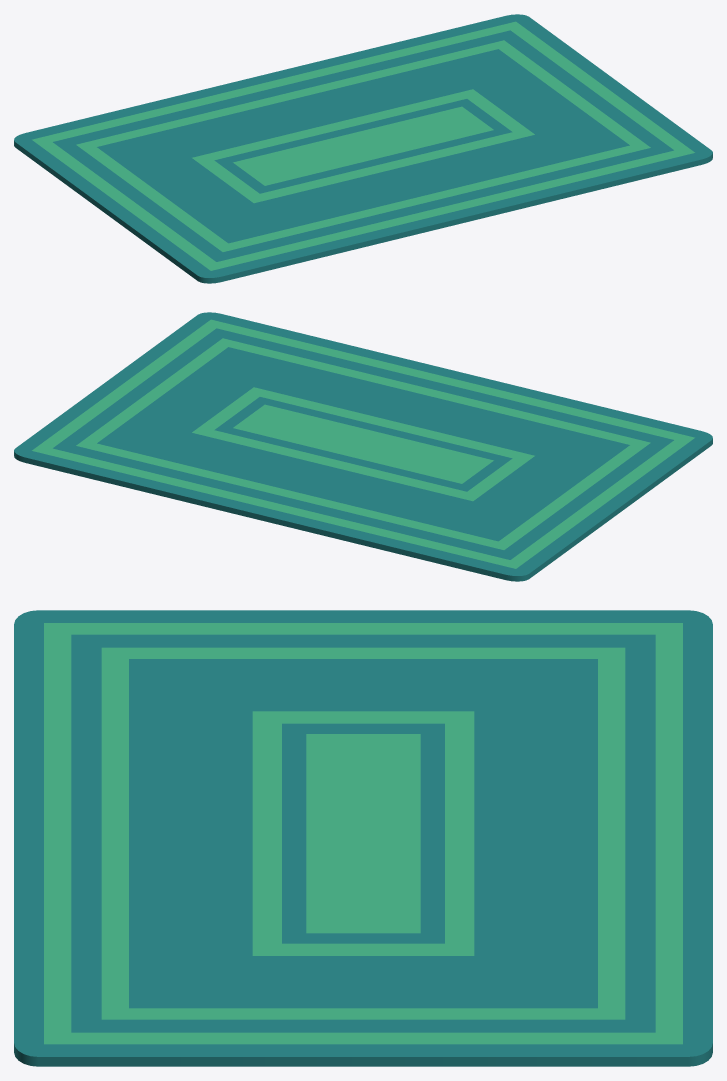
Rendered from carpet_green.fbx.
The picture shows the model from 3 angles, top to bottom: view 1: azimuth 30°, elevation 25°; view 2: azimuth 150°, elevation 25°; view 3: azimuth 270°, elevation 25°; orthographic projection. The views are drawn at different scales.
Visible parts, largest first — view 1: carpet_green; view 2: carpet_green; view 3: carpet_green.
Boxes of the visible parts, box(x1,y1,x2,y2) form: carpet_green: box(14, 14, 712, 283); carpet_green: box(14, 312, 712, 581); carpet_green: box(14, 610, 712, 1066).
Size of the model in its own units: 4.42 by 0.0448 by 2.92.
